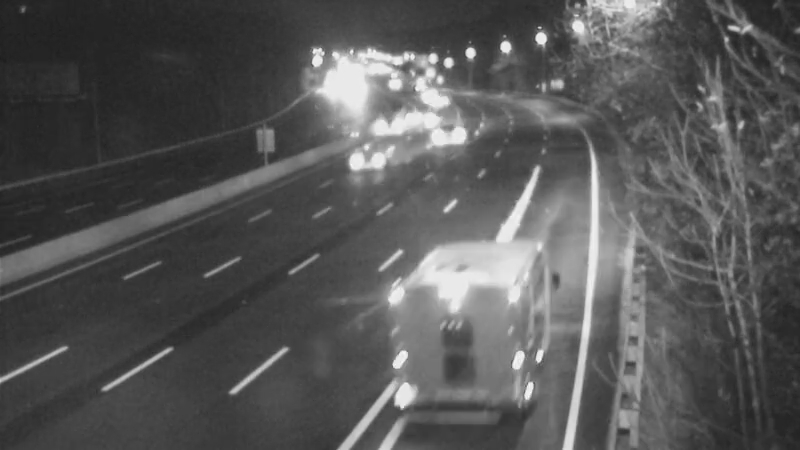vehicle: (395, 263, 505, 373), (409, 75, 459, 125), (406, 92, 456, 142), (372, 98, 422, 148), (420, 103, 470, 153), (347, 122, 397, 172)
